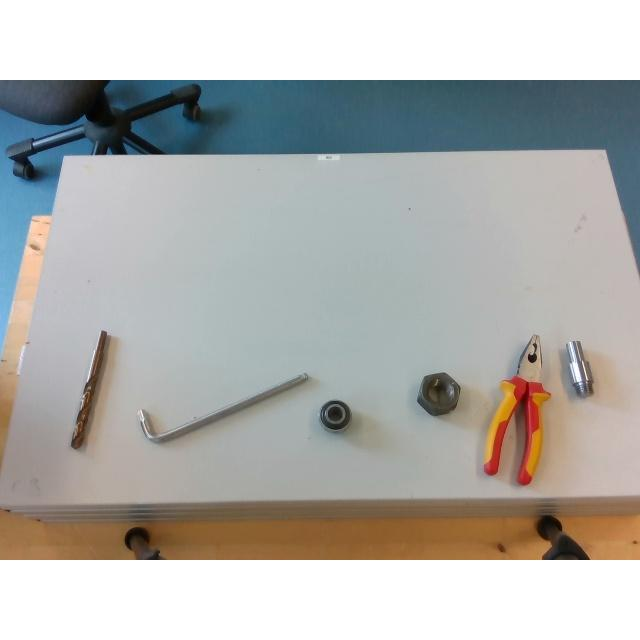AllenKey: (137, 371, 309, 443)
Axis2: (565, 339, 593, 396)
Drill: (70, 330, 108, 448)
M20: (318, 400, 349, 430)
M30: (416, 372, 459, 416)
